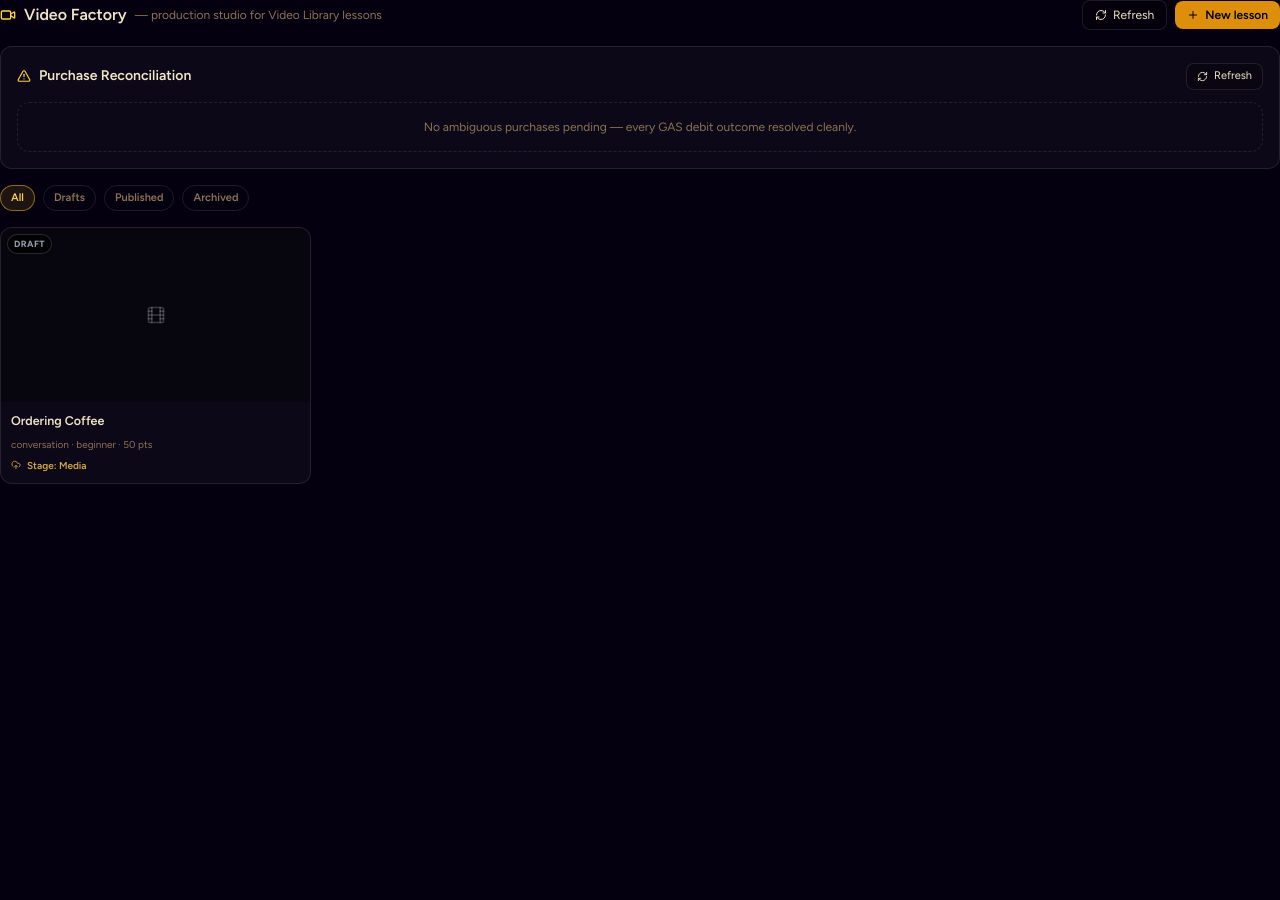
Test: Publish stage blocks publishing without media and publishes with it
Click the button with test id "video-factory-lesson-vid_1".
click(156, 355)  # box [0,227,311,484]
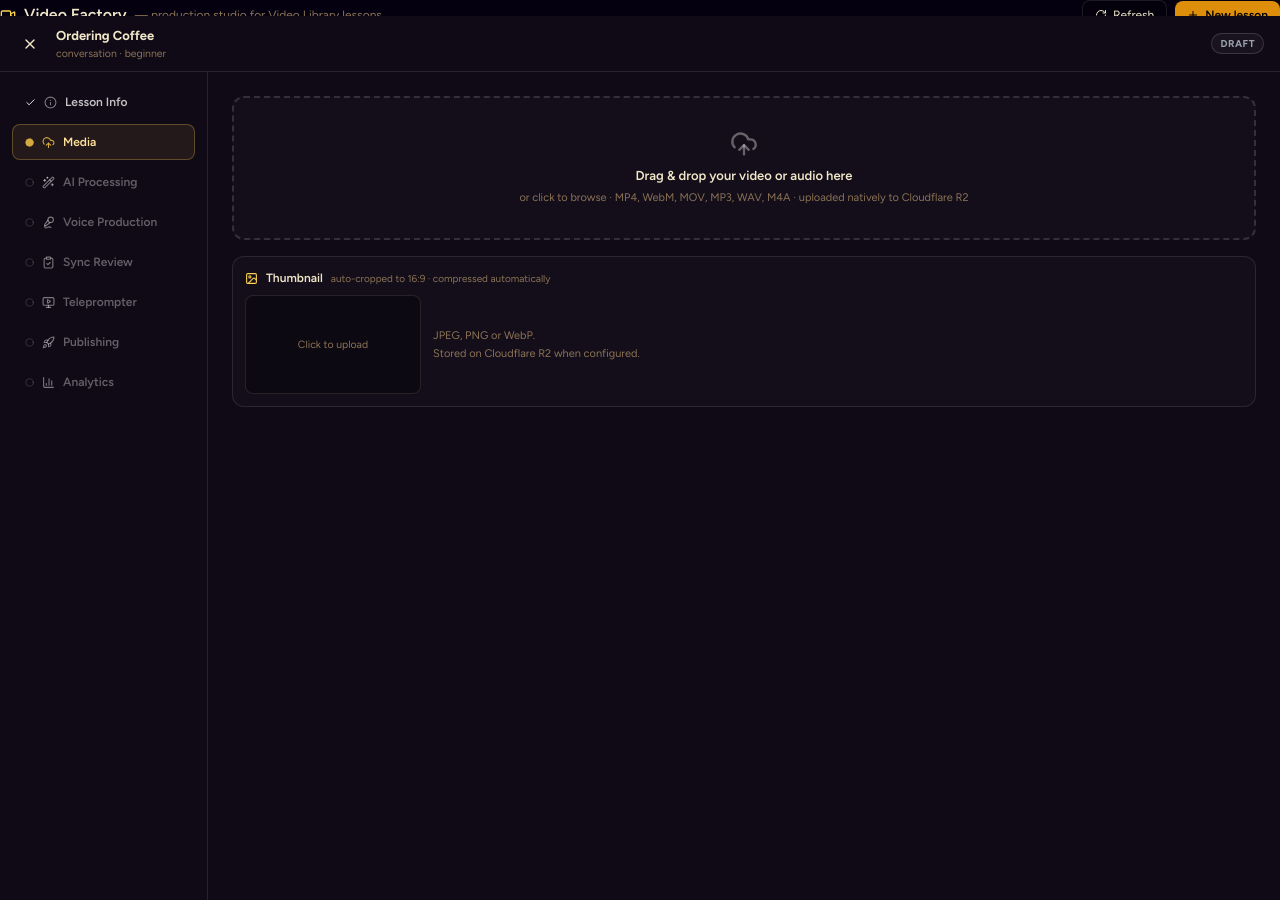
Click the button with test id "production-stage-publish".
click(104, 342)  # box [12,324,195,360]
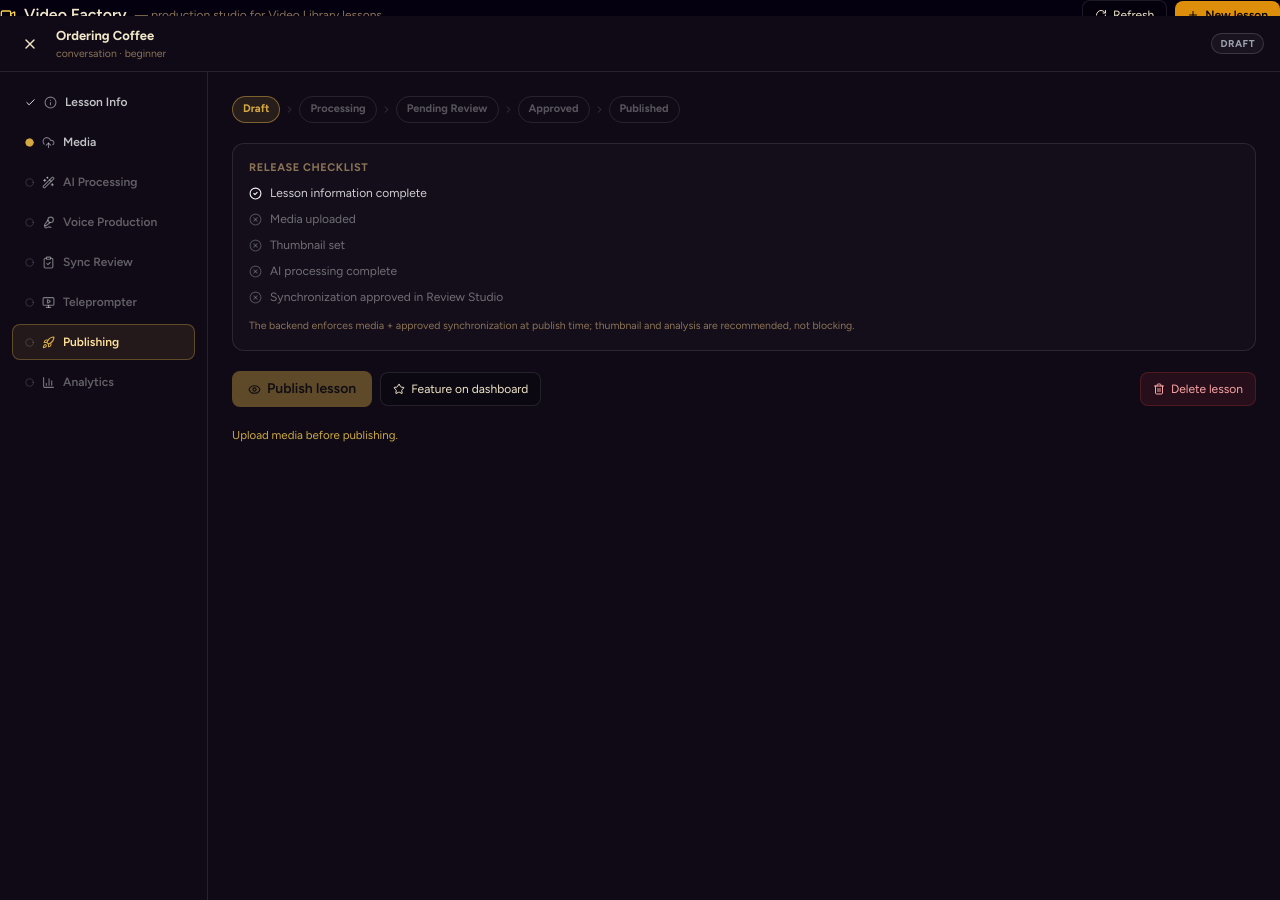
expect the button with test id "publish-toggle-button" is disabled: met, box [232,371,372,407]
expect the element with test id "publish-lifecycle" is shown: met, box [232,96,680,123]
